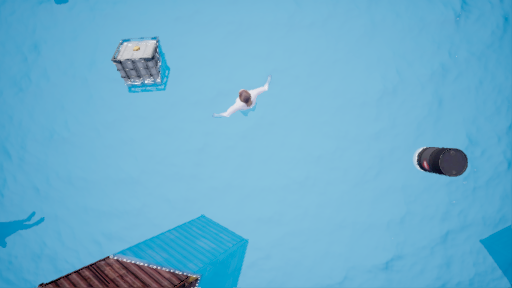person: (216, 76, 276, 123)
